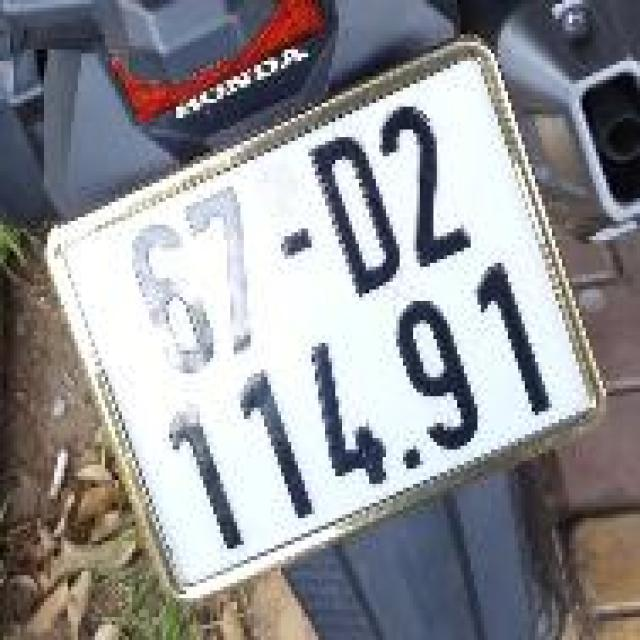1: (149, 391, 253, 566), (460, 250, 561, 429), (226, 358, 324, 533)
2: (363, 93, 482, 286)
4: (287, 326, 399, 505)
6: (115, 207, 229, 390)
7: (179, 176, 290, 364)
9: (380, 287, 492, 463)
D: (294, 122, 414, 310)
